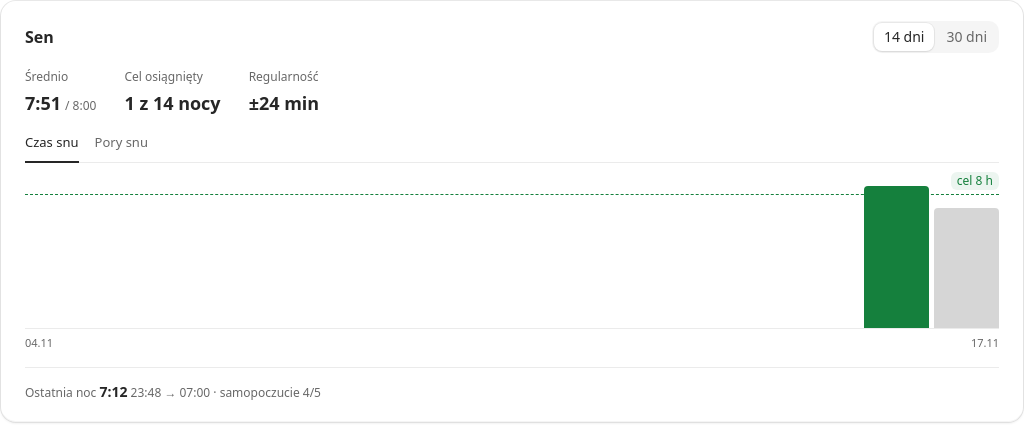
SleepCard › trzy liczby: średnia, noce z celem i regularność; „Pory snu” z oknem
The image size is (1024, 440).
Expected: the text "7:51" is shown, [25,91,61,115]
Expected: the text "1 z 14 nocy" is shown, [124,89,221,117]
Click the tab "Pory snu". click: [121, 148]
box: [94,133,148,162]
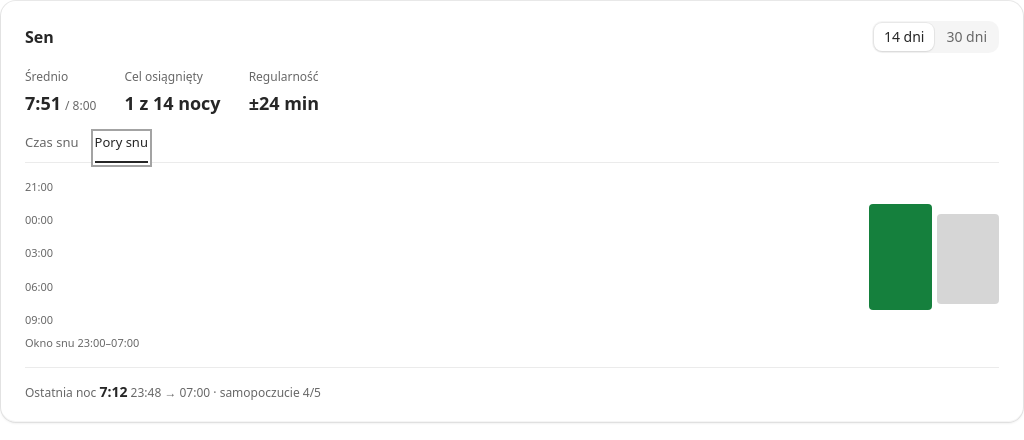
Expected: the text "Okno snu 23:00–07:00" is shown, [25,334,139,350]
